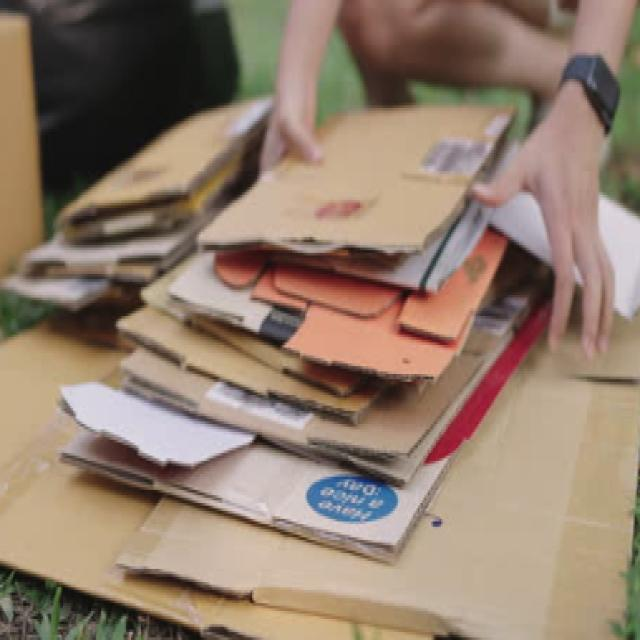Kardus: (60, 105, 518, 566), (0, 375, 640, 640)
